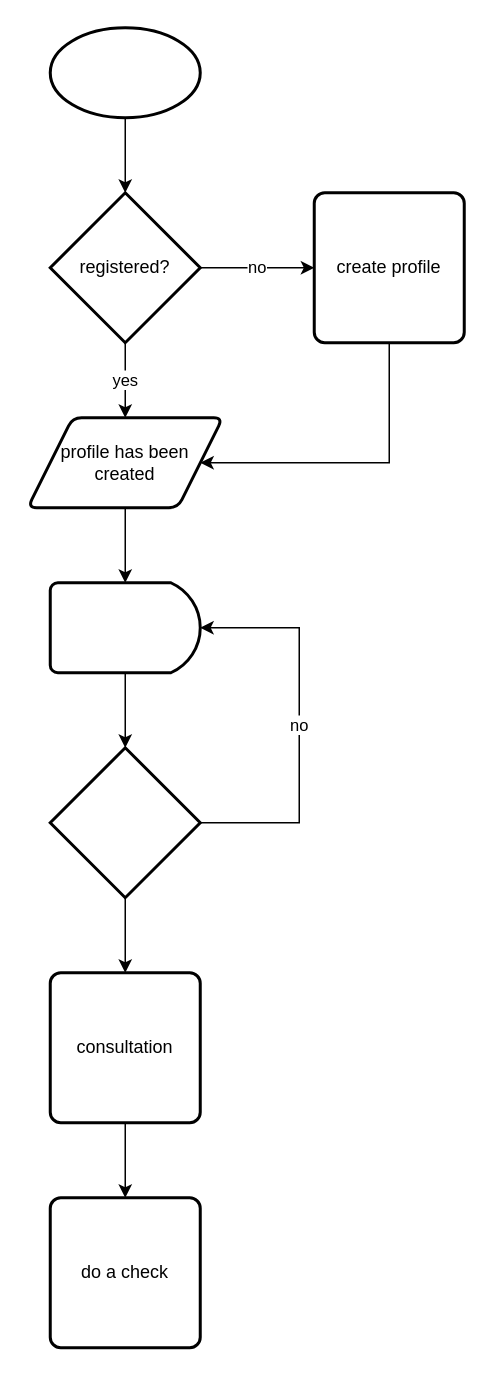
Some shapes in this 491 by 1374 pixel diagram are drawn without their labels. Each missing label, with the box of its shape:
called?: (48, 746, 201, 898)
start: (48, 26, 201, 118)
waiting to be called: (48, 580, 201, 674)
